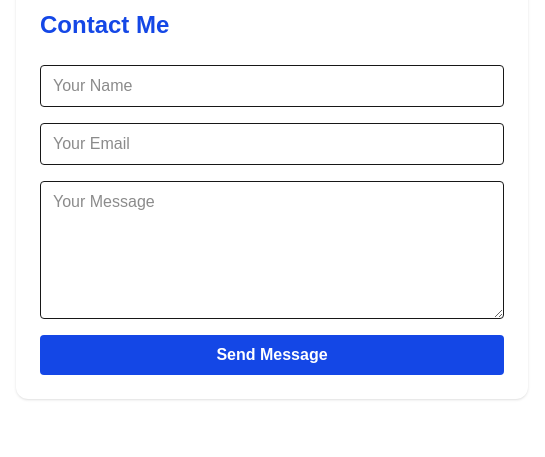
Test: ContactForm › should handle form submission errors
# Fill out the form
Type "John Doe" into the field with placeholder "Your Name" at (272, 86), box [40,65,504,107]
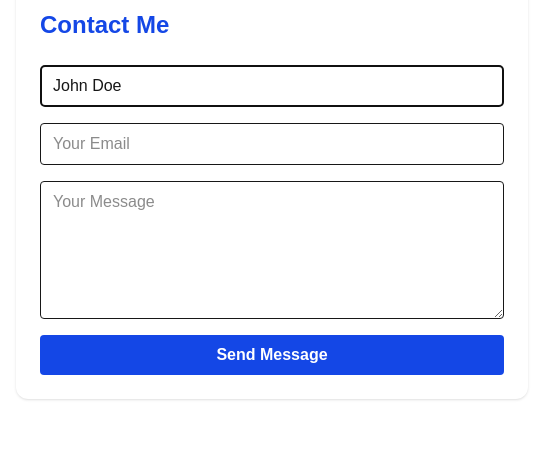
Type "john@example.com" into the field with placeholder "Your Email" at (272, 144), box [40,123,504,165]
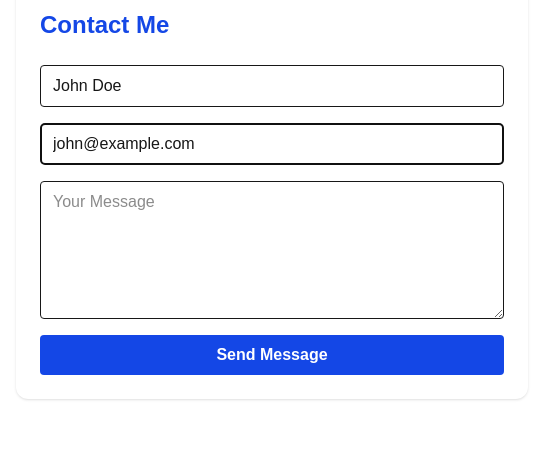
Type "Test message" into the text box with placeholder "Your Message" at (272, 250), box [40,181,504,319]
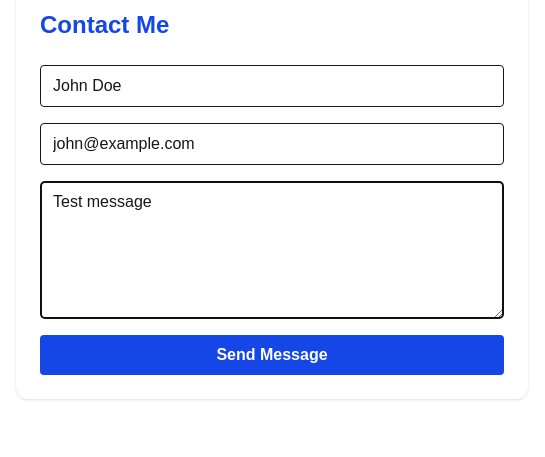
# Submit the form
Click the button "Send Message" at (272, 355), box [40,335,504,375]
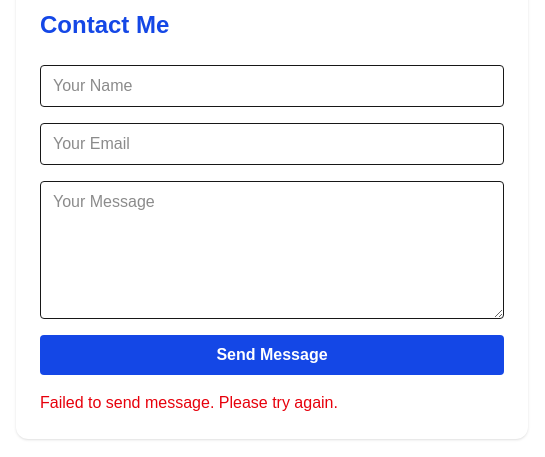
Check: the text "Failed to send message. Please try again." is shown, box [40,394,338,411]
